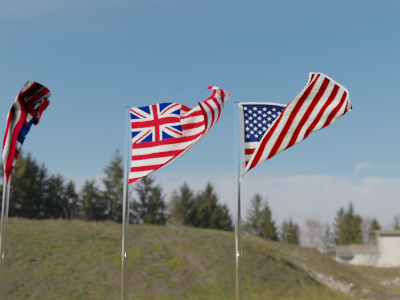America flag: (241, 71, 354, 173)
Liberia flag: (2, 74, 53, 183)
Malaysia flag: (128, 85, 233, 186)
